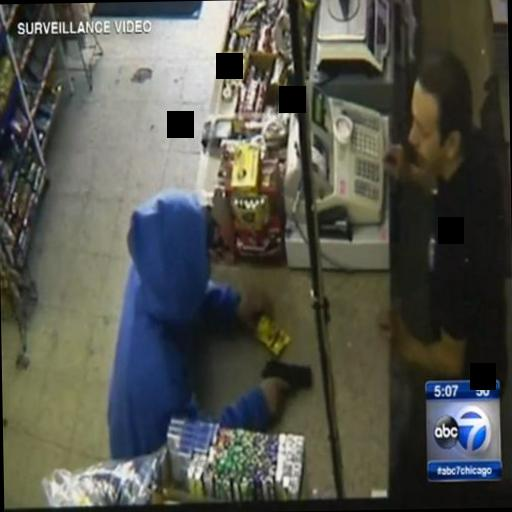Handgun: (258, 354, 320, 418)
